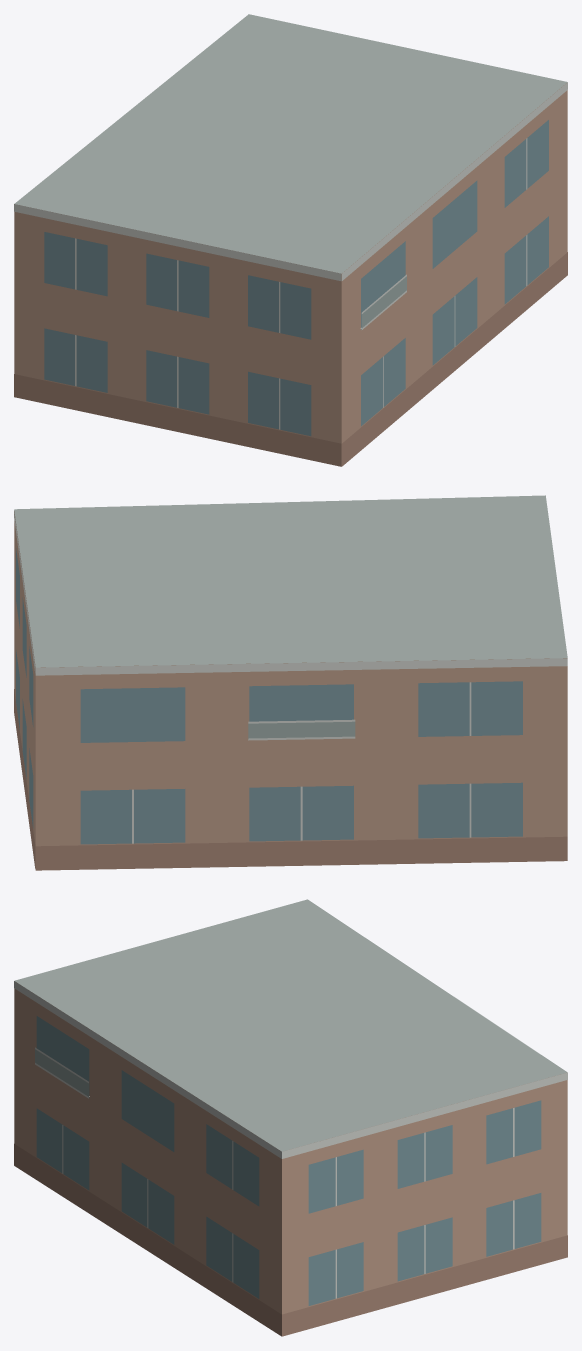
The model's file is survey-upis-32619275.glb.
3 views of the same model, one above another, from view 1: azimuth 30°, elevation 25°; view 2: azimuth 150°, elevation 25°; view 3: azimuth 270°, elevation 25° (orthographic). The views are drawn at different scales.
Parts seen in each view (by area): view 1: survey-upis-32619275.tmp; view 2: survey-upis-32619275.tmp; view 3: survey-upis-32619275.tmp.
Part boxes in pixels (x1,y1,x2,y2): survey-upis-32619275.tmp: [14, 14, 567, 466]; survey-upis-32619275.tmp: [14, 495, 567, 870]; survey-upis-32619275.tmp: [14, 899, 567, 1336].
Size of the model in its own units: 17.87 by 6.1 by 16.57.
